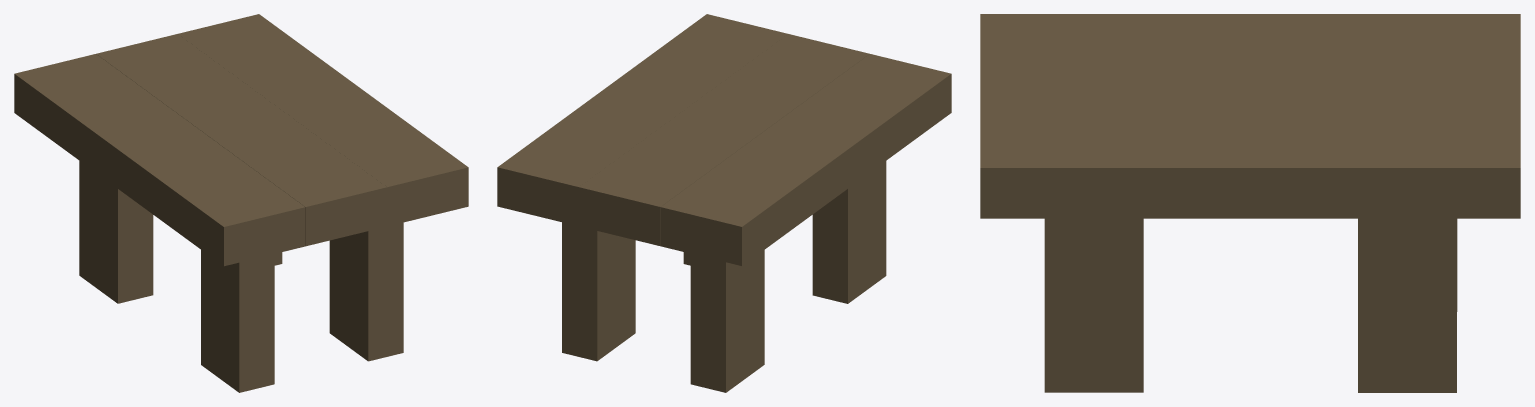
File: MesaExterior2_FBX.fbx
3 views of the same model, side by side, from view 1: azimuth 30°, elevation 25°; view 2: azimuth 150°, elevation 25°; view 3: azimuth 270°, elevation 25° (orthographic). The views are drawn at different scales.
Parts seen in each view (by area): view 1: polySurface20; view 2: polySurface20; view 3: polySurface20.
Part boxes in pixels (box(x1,y1,x2,y2)): polySurface20: box(14, 14, 468, 392); polySurface20: box(497, 14, 951, 392); polySurface20: box(980, 14, 1520, 392).
Size of the model in its own units: 5.25 by 3.98 by 7.79.
